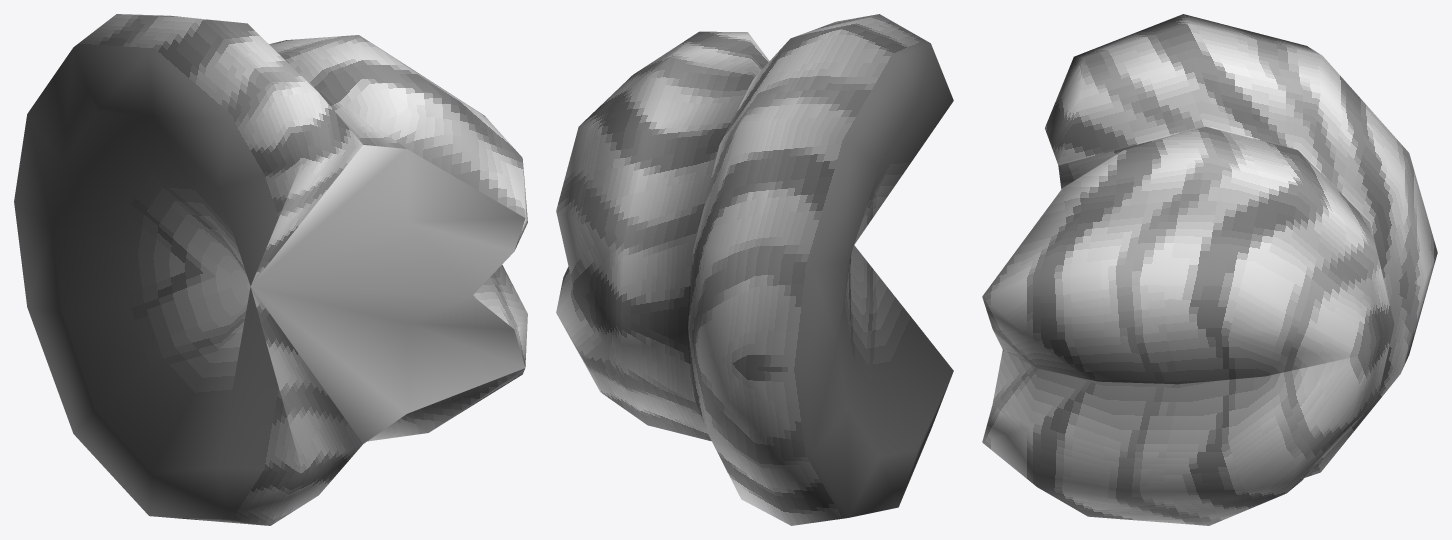
File: hlmt_wig_powdered.dae
3 renders of one model, left to right at view 1: azimuth 30°, elevation 25°; view 2: azimuth 150°, elevation 25°; view 3: azimuth 270°, elevation 25°, orthographic. The views are drawn at different scales.
Visible parts, largest first — view 1: hlmt_wig_powdered; view 2: hlmt_wig_powdered; view 3: hlmt_wig_powdered.
Part boxes in pixels (left/top/right/bottom): hlmt_wig_powdered: left=14, top=14, right=527, bottom=525; hlmt_wig_powdered: left=556, top=14, right=953, bottom=525; hlmt_wig_powdered: left=982, top=14, right=1437, bottom=525.
Size of the model in its own units: 23.18 by 32.15 by 27.37.
1 material, 1 textured.
